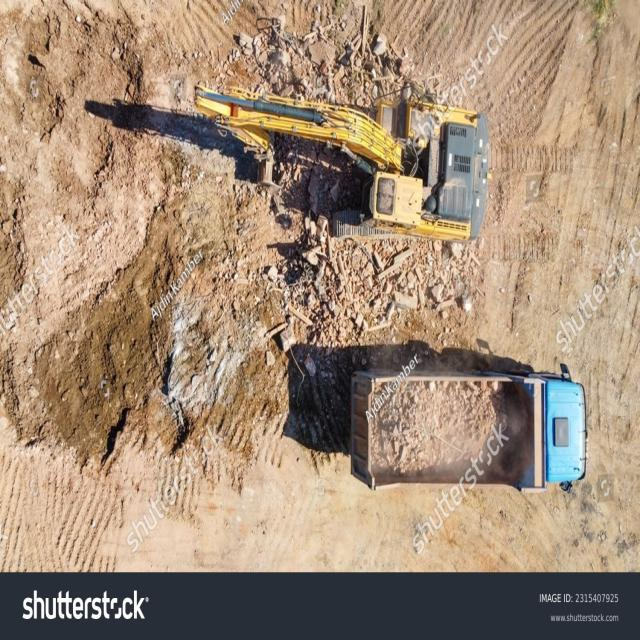excavator: (195, 89, 488, 240)
